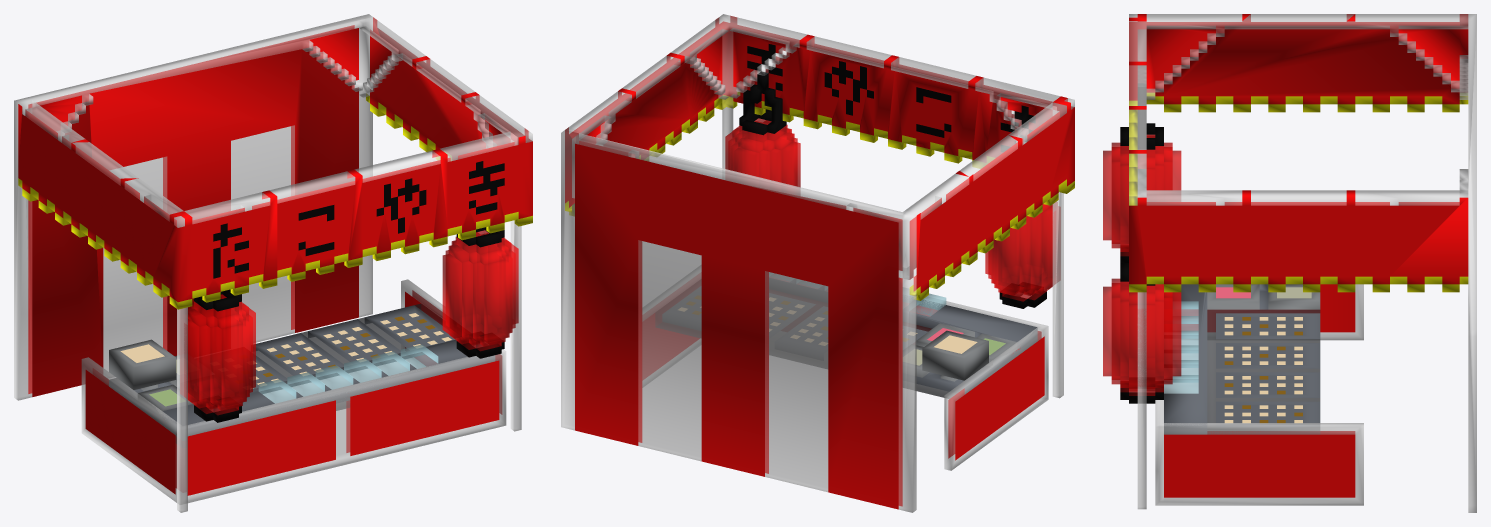
Rendered from FoodStalls1.fbx.
The picture shows the model from 3 angles, left to right: view 1: azimuth 30°, elevation 25°; view 2: azimuth 150°, elevation 25°; view 3: azimuth 270°, elevation 25°; orthographic projection. The views are drawn at different scales.
Parts seen in each view (by area): view 1: ObjObject.002, ObjObject.003, ObjObject.001, ObjObject; view 2: ObjObject.002, ObjObject.001, ObjObject.003, ObjObject; view 3: ObjObject.002, ObjObject.001, ObjObject.003, ObjObject.
Part boxes in pixels (left/top/right/bottom): ObjObject.002: left=14, top=14, right=532, bottom=512; ObjObject.003: left=81, top=279, right=506, bottom=504; ObjObject.001: left=109, top=303, right=495, bottom=443; ObjObject: left=180, top=227, right=518, bottom=422; ObjObject.002: left=561, top=14, right=1074, bottom=512; ObjObject.001: left=656, top=272, right=1037, bottom=398; ObjObject.003: left=642, top=266, right=1048, bottom=470; ObjObject: left=725, top=71, right=1060, bottom=308; ObjObject.002: left=1129, top=14, right=1476, bottom=512; ObjObject.001: left=1164, top=284, right=1320, bottom=434; ObjObject.003: left=1155, top=284, right=1363, bottom=505; ObjObject: left=1103, top=87, right=1181, bottom=403.
Bounding box in the file's own units: 500 × 400 × 430.
